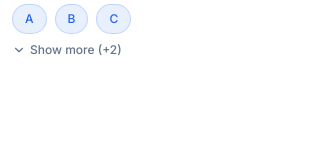
Test: SuggestedPromptChips › pins multiple asked prompts, most recently asked first
The image size is (332, 160).
Click the button "Show more (+2)".
click(67, 50)  # box [12, 42, 122, 58]
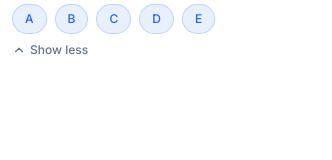
Click the button "D".
click(157, 19)  # box [139, 4, 174, 34]
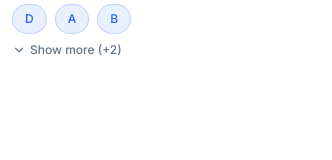
Click the button "Show more (+2)".
click(67, 50)  # box [12, 42, 122, 58]
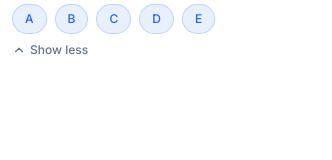
Click the button "E".
click(199, 19)  # box [182, 4, 215, 34]
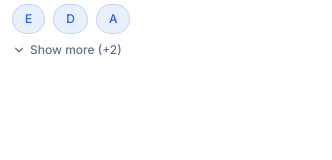
Expected: the button "E" is shown, [12, 4, 45, 34]
Expected: the button "B" is gone
Expected: the button "C" is gone
